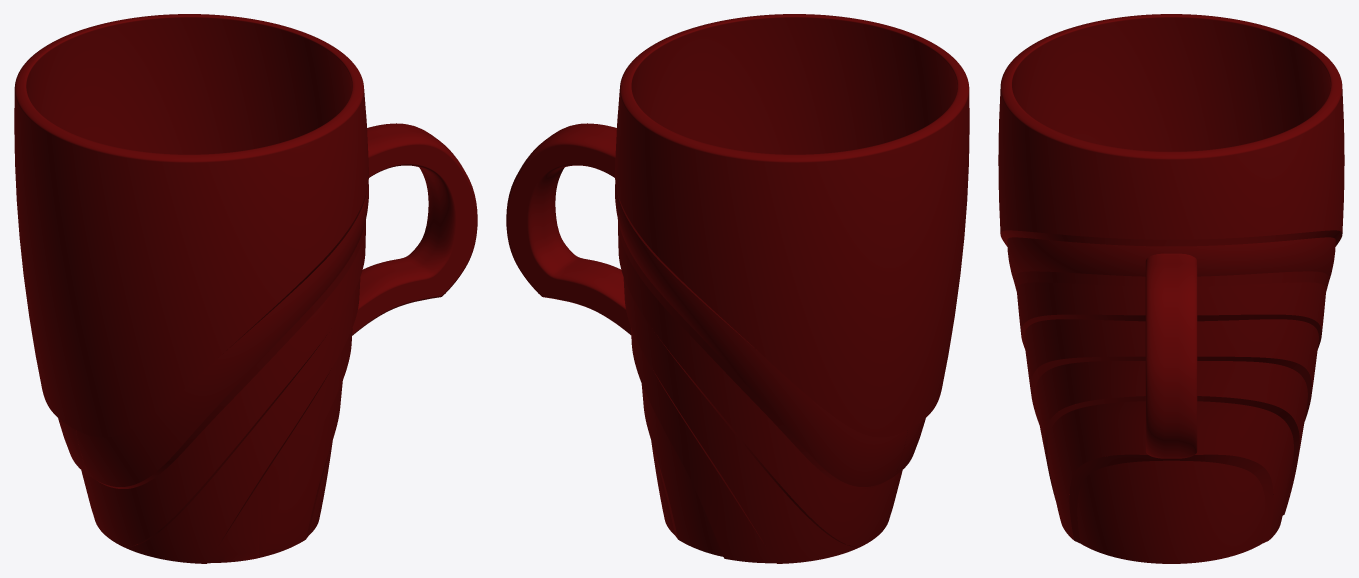
3 views of the same model, side by side, from view 1: azimuth 30°, elevation 25°; view 2: azimuth 150°, elevation 25°; view 3: azimuth 270°, elevation 25° (orthographic). The views are drawn at different scales.
Size of the model in its own units: 0.104 by 0.1001 by 0.0739.
